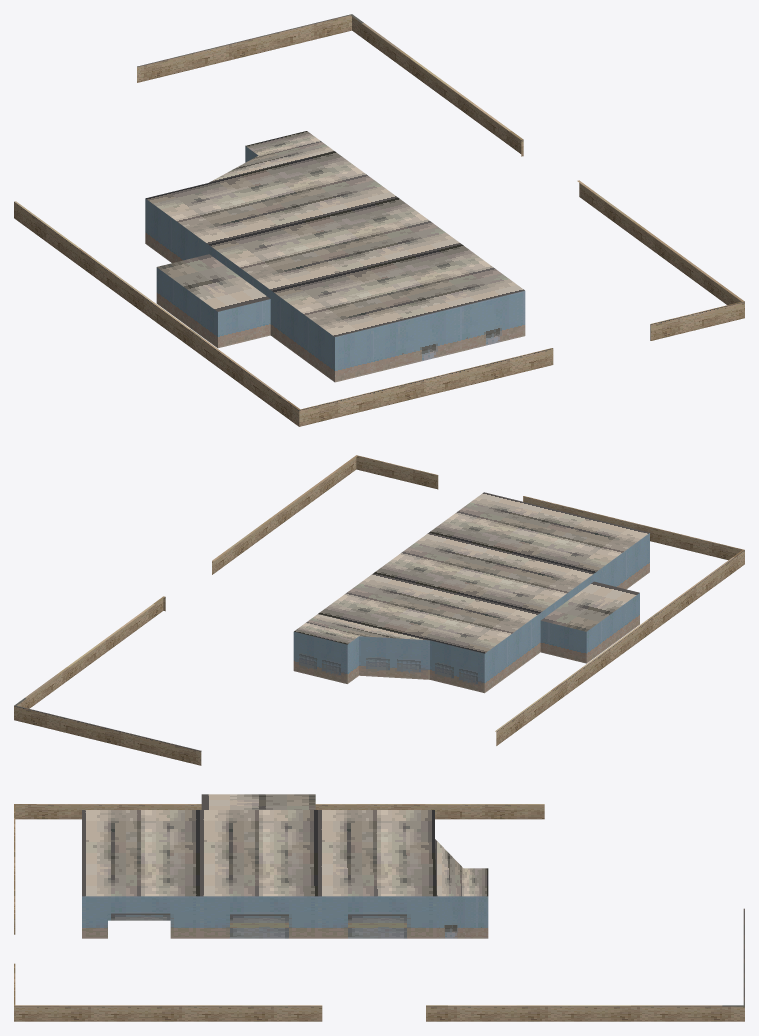
Rendered from lodorthwrehse14.obj.
3 views of the same model, one above another, from view 1: azimuth 30°, elevation 25°; view 2: azimuth 150°, elevation 25°; view 3: azimuth 270°, elevation 25° (orthographic). The views are drawn at different scales.
Visible parts, largest first — view 1: lodorthwrehse14; view 2: lodorthwrehse14; view 3: lodorthwrehse14.
Boxes of the visible parts, x1,y1,x2,y2 form: lodorthwrehse14: (14,14,744,426); lodorthwrehse14: (14,455,744,765); lodorthwrehse14: (14,794,744,1021).
Bounding box in the file's own units: 93.03 × 9.05 × 142.
Materials: 7 (7 with a texture image).
